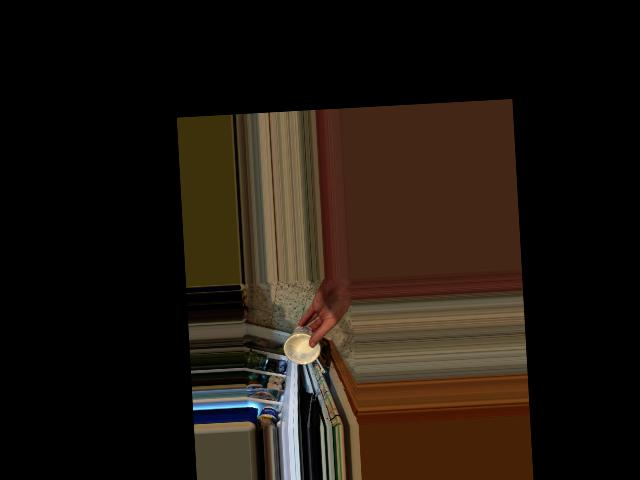cotage: (289, 322, 324, 364)
